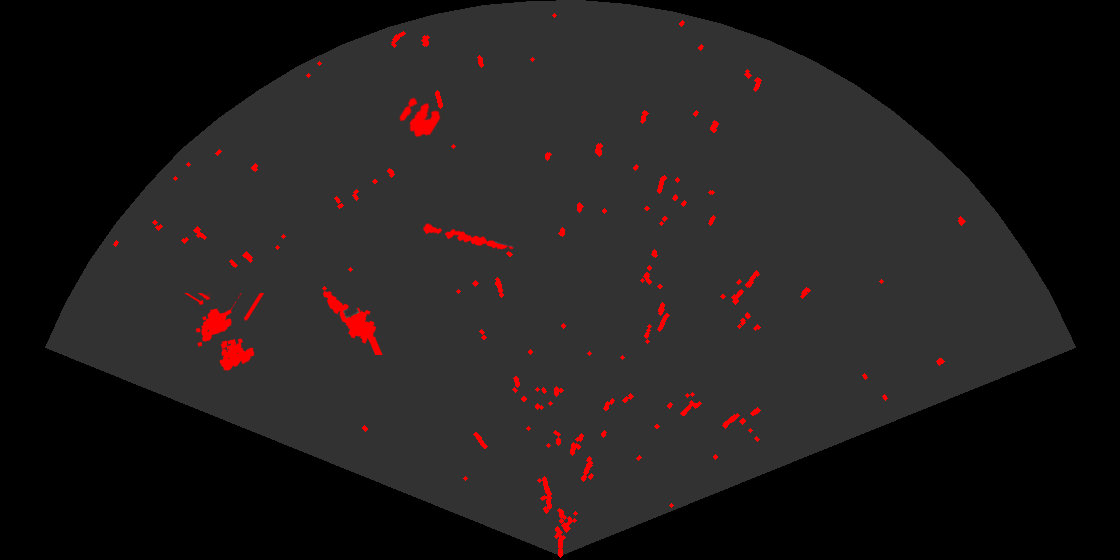ball: (398, 96, 442, 139)
cage: (183, 293, 266, 372)
chain: (421, 222, 515, 251)
frogman: (321, 289, 384, 355)
